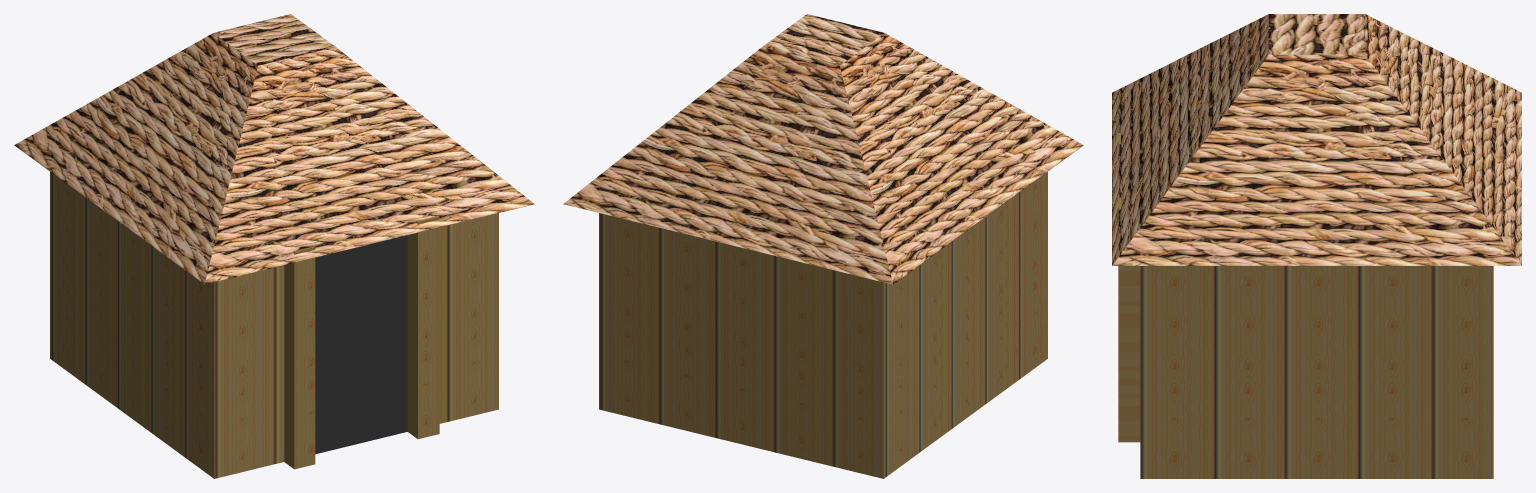
Rendered from goblinhut.glb.
3 renders of one model, left to right at view 1: azimuth 30°, elevation 25°; view 2: azimuth 150°, elevation 25°; view 3: azimuth 270°, elevation 25°, orthographic. The views are drawn at different scales.
Visible parts, largest first — view 1: Cube; view 2: Cube; view 3: Cube.
Boxes of the visible parts, x1=… form: Cube: x1=14, y1=14, x2=534, y2=478; Cube: x1=563, y1=14, x2=1083, y2=478; Cube: x1=1112, y1=14, x2=1521, y2=478.
Size of the model in its own units: 3 by 2.99 by 3.
3 materials, 2 textured.
